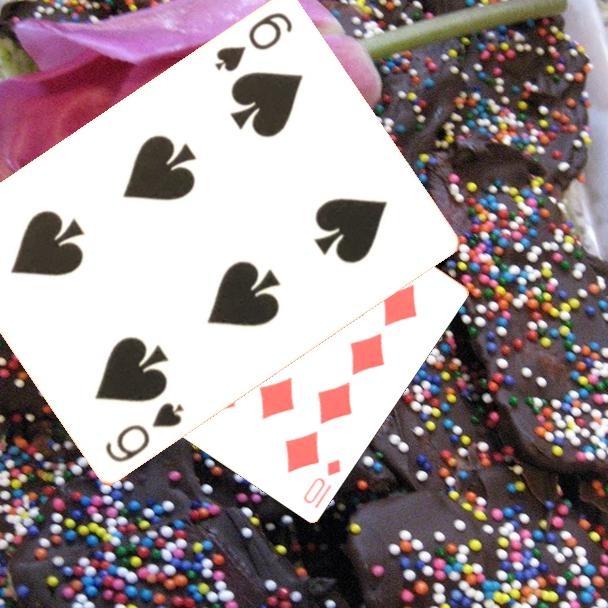d10: (299, 455, 344, 511)
s06: (101, 399, 188, 467), (210, 9, 296, 76)
